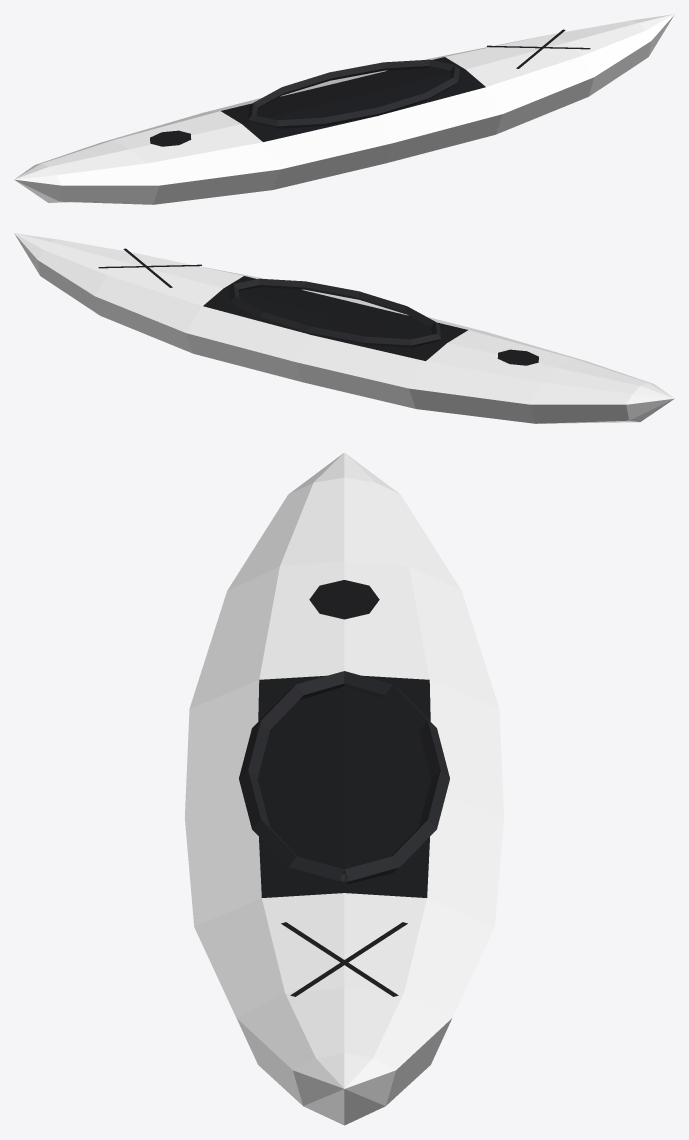
The model's file is prop_kayak.glb.
3 views of the same model, one above another, from view 1: azimuth 30°, elevation 25°; view 2: azimuth 150°, elevation 25°; view 3: azimuth 270°, elevation 25° (orthographic). The views are drawn at different scales.
Visible parts, largest first — view 1: prop_kayak__mesh; view 2: prop_kayak__mesh; view 3: prop_kayak__mesh.
Boxes of the visible parts, x1,y1,x2,y2 form: prop_kayak__mesh: (14,14,674,204); prop_kayak__mesh: (14,233,674,423); prop_kayak__mesh: (184,452,504,1125).
Bounding box in the file's own units: 3.25 × 0.302 × 0.68.
Materials: 1 (1 with a texture image).
